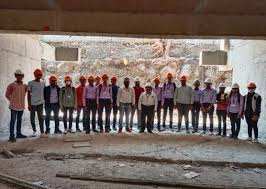arm: (24, 83, 32, 111), (3, 82, 12, 103), (238, 94, 245, 118), (256, 93, 263, 117), (172, 84, 178, 108), (137, 92, 143, 111)
face: (15, 71, 24, 81)
footwear: (6, 134, 16, 142), (16, 130, 26, 137), (52, 126, 61, 133), (138, 125, 146, 132), (42, 127, 50, 134), (233, 132, 240, 139), (147, 126, 154, 133), (253, 135, 261, 141), (30, 125, 36, 132), (247, 132, 253, 138), (215, 129, 221, 135), (208, 126, 214, 132), (221, 130, 227, 135)
glove: (26, 103, 33, 111), (238, 110, 244, 118)
helmet: (13, 67, 25, 79), (246, 79, 258, 90), (31, 66, 42, 76), (47, 73, 57, 84), (230, 80, 240, 90), (63, 74, 72, 84), (192, 78, 200, 86), (204, 77, 212, 84)
human: (4, 66, 28, 141), (26, 64, 46, 133), (243, 79, 264, 140), (137, 80, 159, 134), (174, 73, 194, 130), (60, 72, 78, 133), (44, 69, 61, 133), (159, 69, 177, 128), (199, 76, 217, 131), (226, 79, 243, 137), (215, 81, 229, 133)
leg: (6, 108, 17, 142), (41, 103, 52, 134), (15, 108, 26, 137), (51, 103, 61, 133), (183, 104, 193, 131), (28, 104, 37, 133), (60, 104, 69, 133), (147, 106, 156, 133), (139, 105, 148, 132), (175, 104, 184, 131), (73, 105, 82, 131), (252, 118, 261, 141), (192, 107, 200, 132), (207, 109, 215, 132), (234, 115, 242, 138), (221, 110, 228, 135), (215, 110, 222, 134), (246, 117, 254, 138), (200, 109, 207, 132)
nohelmet: (178, 74, 188, 82), (144, 83, 152, 91)
novest: (141, 91, 155, 107)
vest: (7, 80, 25, 109), (28, 77, 43, 104), (245, 91, 261, 116), (228, 90, 241, 113), (177, 84, 191, 104), (46, 83, 59, 103), (63, 85, 75, 106), (75, 84, 86, 106), (202, 87, 214, 106), (141, 91, 155, 107), (163, 80, 174, 99), (217, 92, 227, 111), (193, 87, 201, 103)
